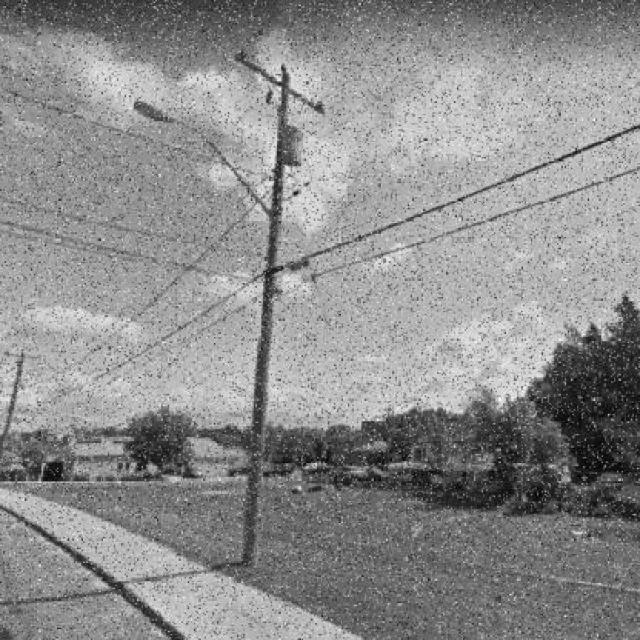pole: (181, 28, 364, 580)
